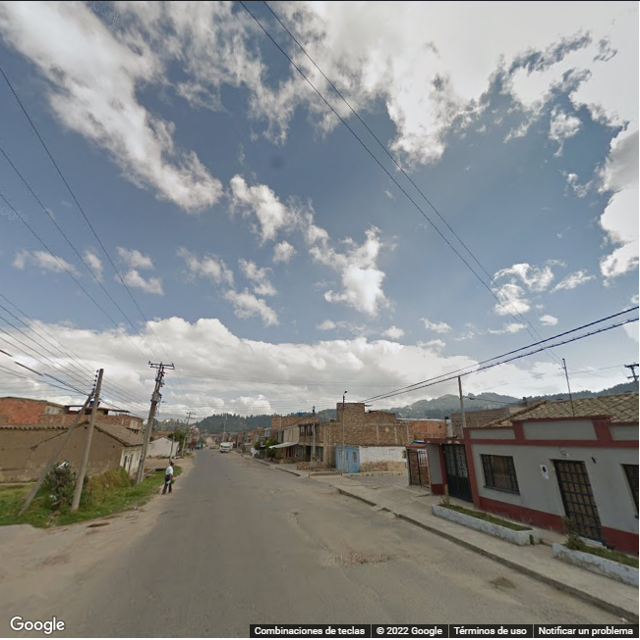D00: (329, 559, 385, 602), (291, 509, 336, 555)
D40: (353, 550, 389, 565)
